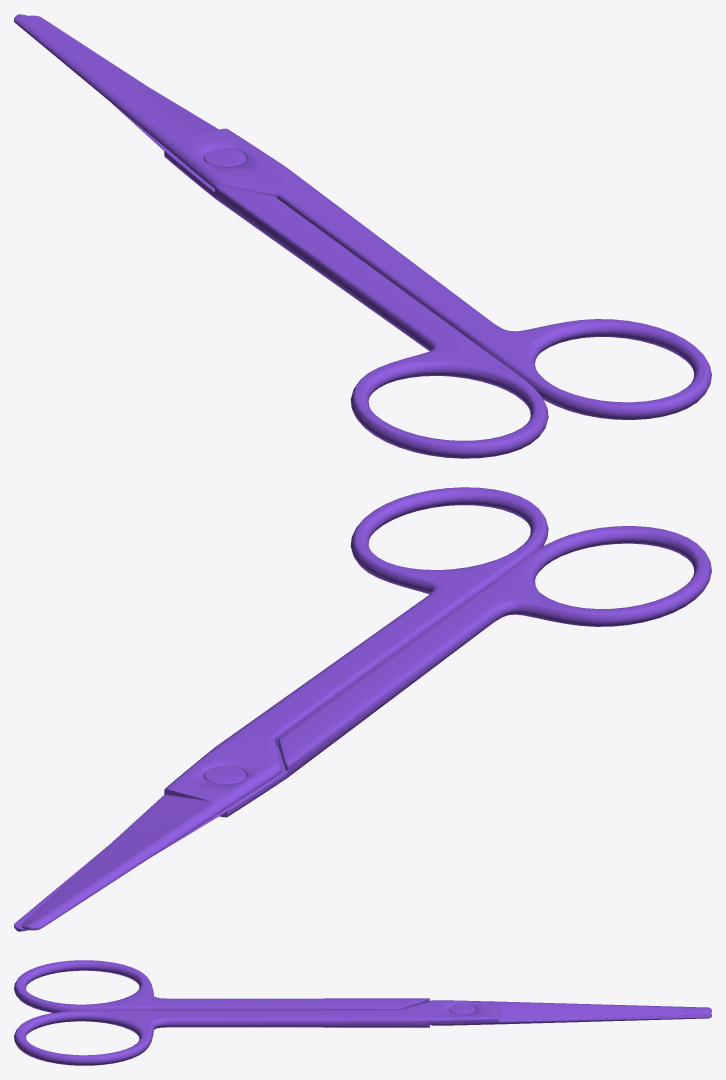
Rendered from Scissors1.FBX.
3 renders of one model, top to bottom at view 1: azimuth 30°, elevation 25°; view 2: azimuth 150°, elevation 25°; view 3: azimuth 270°, elevation 25°, orthographic. The views are drawn at different scales.
Visible parts, largest first — view 1: Scissors1; view 2: Scissors1; view 3: Scissors1.
Boxes of the visible parts, box(x1,y1,x2,y2) form: Scissors1: box(14, 14, 711, 458); Scissors1: box(14, 487, 711, 931); Scissors1: box(14, 960, 711, 1065).
Bounding box in the file's own units: 5.2 × 0.239 × 15.55.
